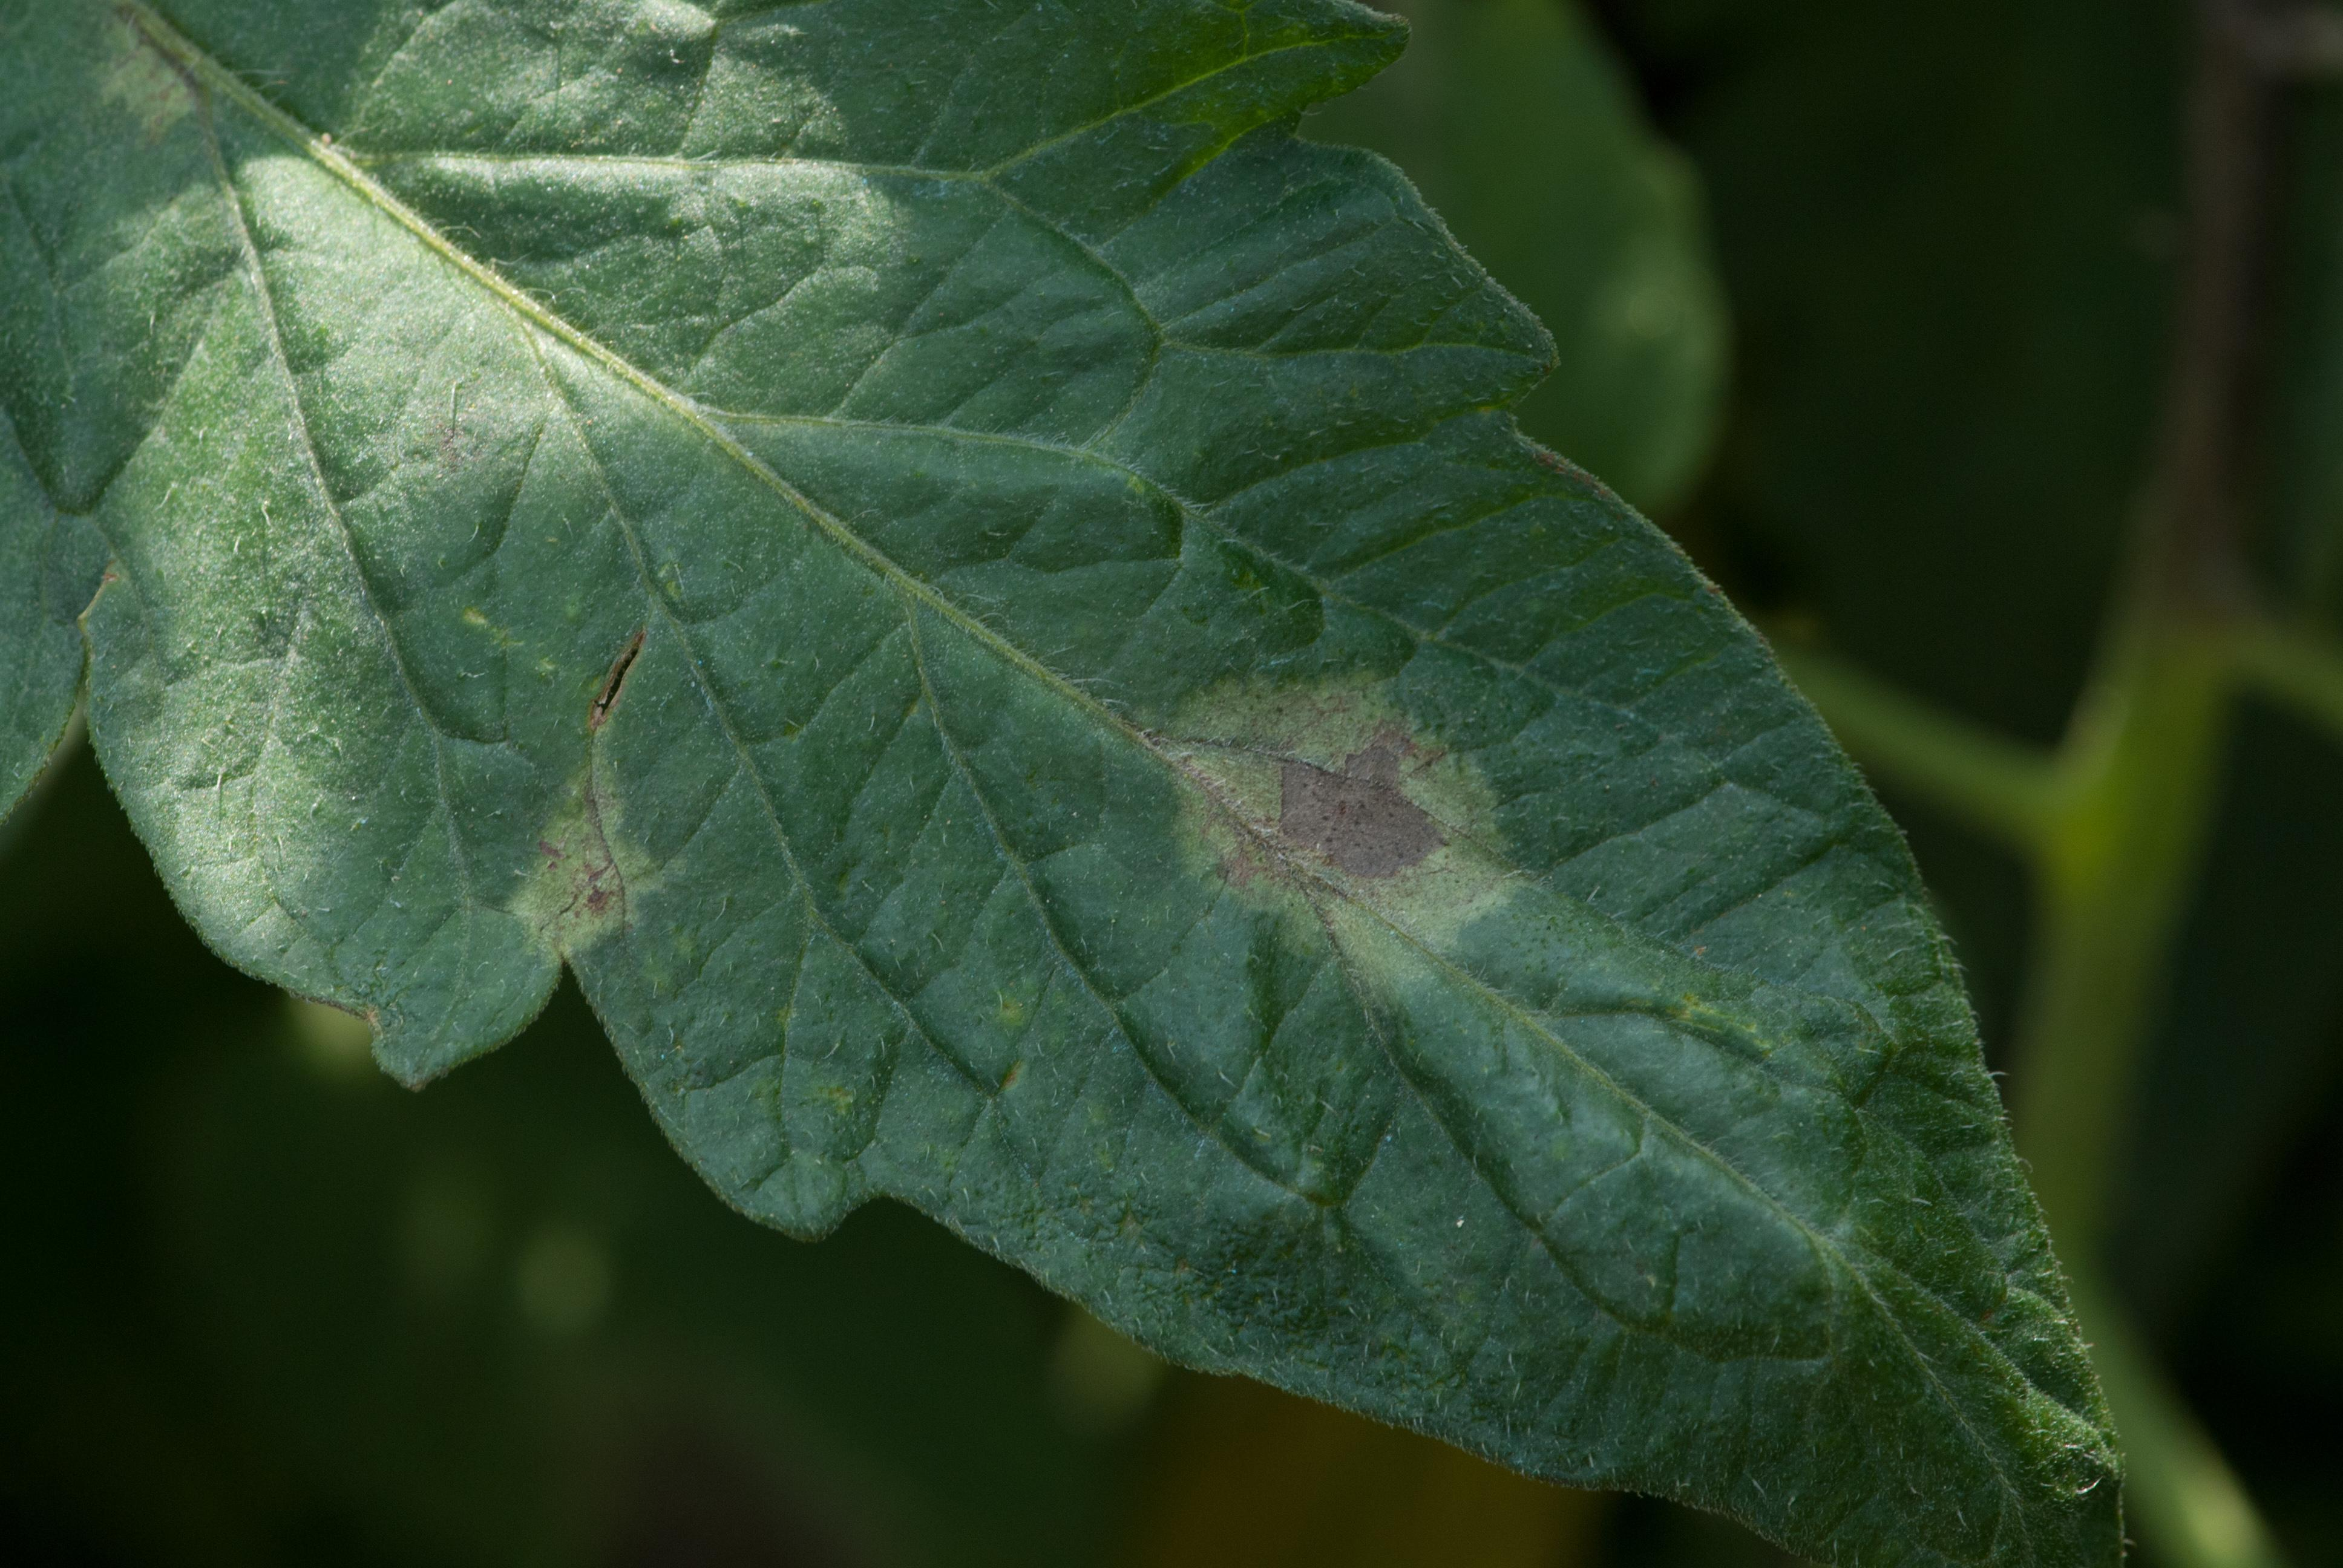Tomato leaf late blight: (33, 18, 2200, 1532)
